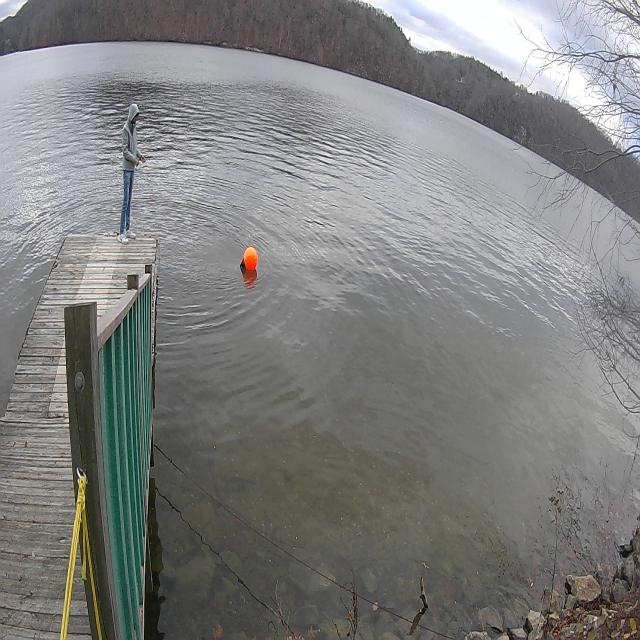Buoy: (238, 240, 260, 282)
